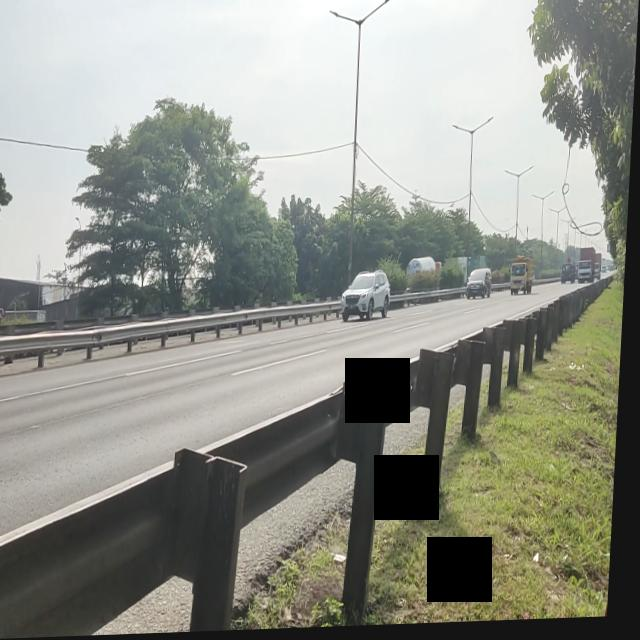Golongan I: (342, 266, 397, 330)
